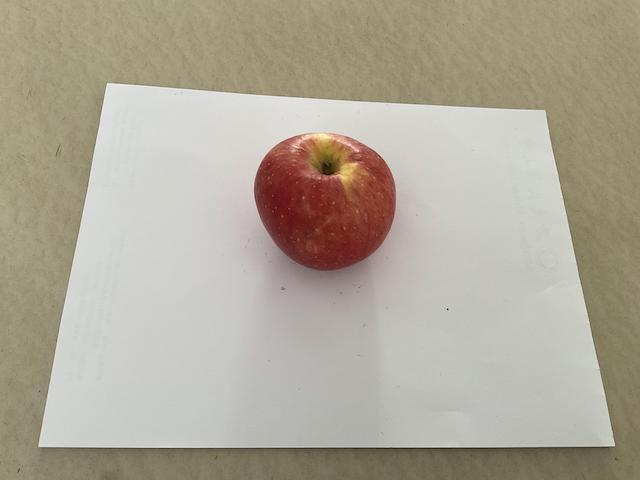apple: (249, 128, 401, 274)
